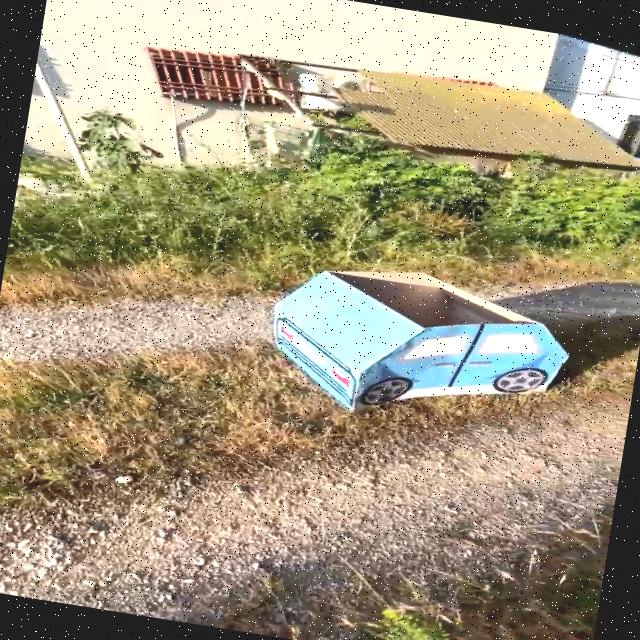blue_car: (226, 227, 634, 465)
